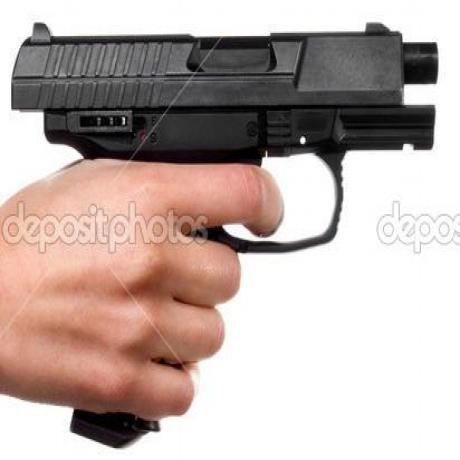1: (0, 161, 284, 418)
weapon: (21, 15, 440, 298)
